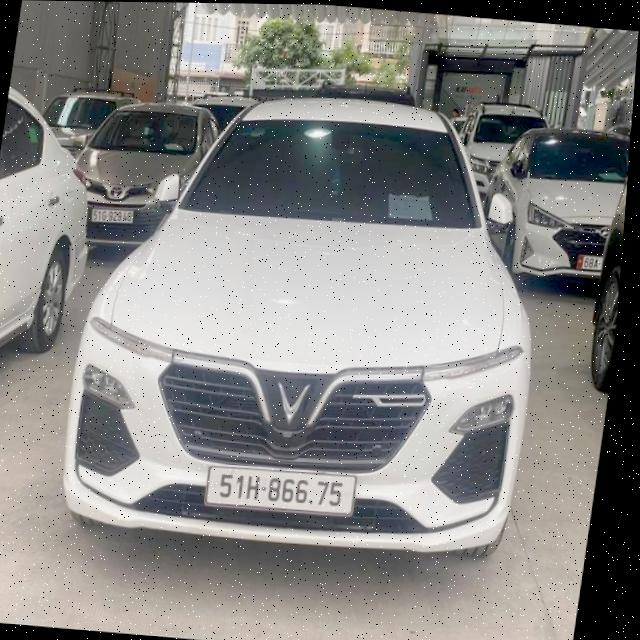car: (48, 69, 571, 586), (0, 64, 115, 449), (47, 85, 282, 269), (466, 115, 632, 298)
plate: (194, 459, 362, 520), (82, 195, 141, 232), (570, 249, 607, 277)
